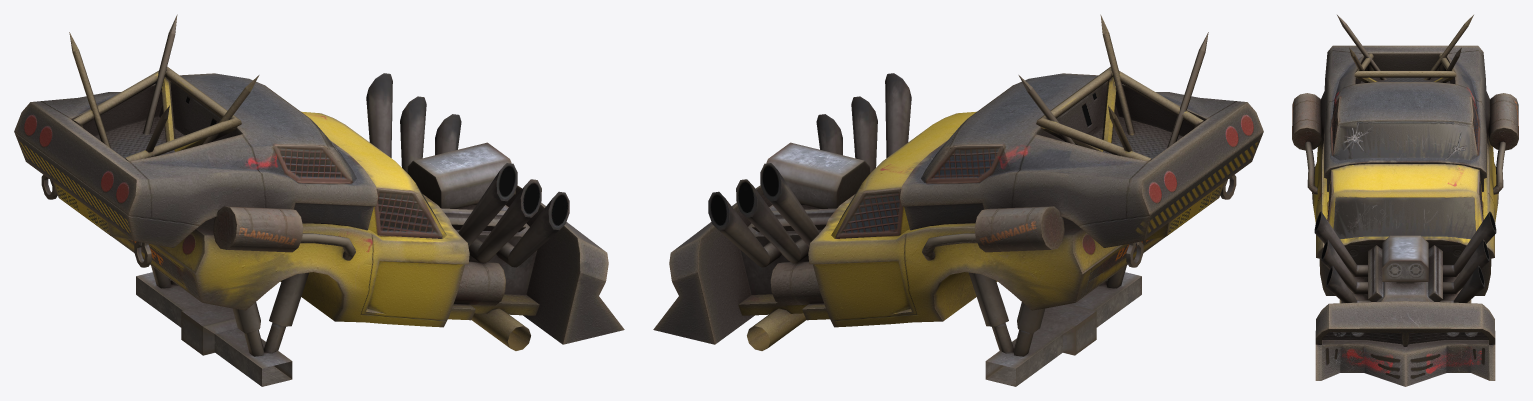
The model's file is f1_rogue_02.dae.
The picture shows the model from 3 angles, left to right: view 1: azimuth 30°, elevation 25°; view 2: azimuth 150°, elevation 25°; view 3: azimuth 270°, elevation 25°; orthographic projection. The views are drawn at different scales.
Visible parts, largest first — view 1: postapoc_body; view 2: postapoc_body; view 3: postapoc_body.
Boxes of the visible parts, x1,y1,x2,y2 form: postapoc_body: [14, 14, 624, 386]; postapoc_body: [653, 14, 1263, 386]; postapoc_body: [1292, 15, 1518, 386].
Bounding box in the file's own units: 0.3582 × 0.2029 × 0.2169.
Materials: 1 (1 with a texture image).
